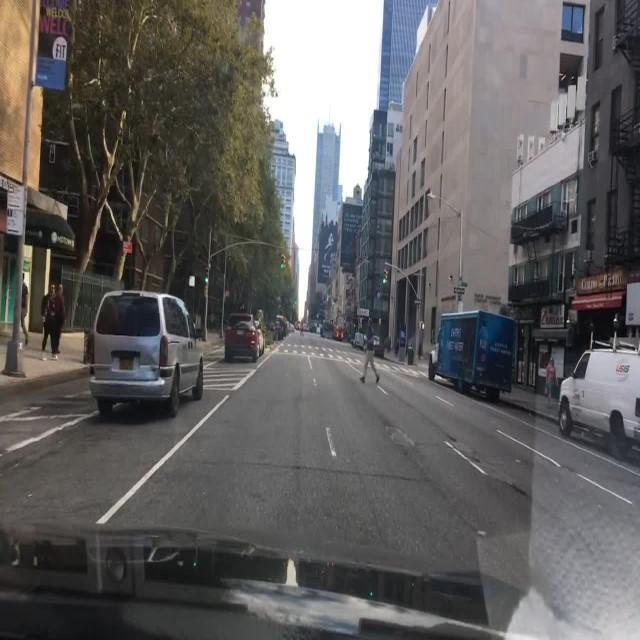normal: (84, 289, 206, 423)
